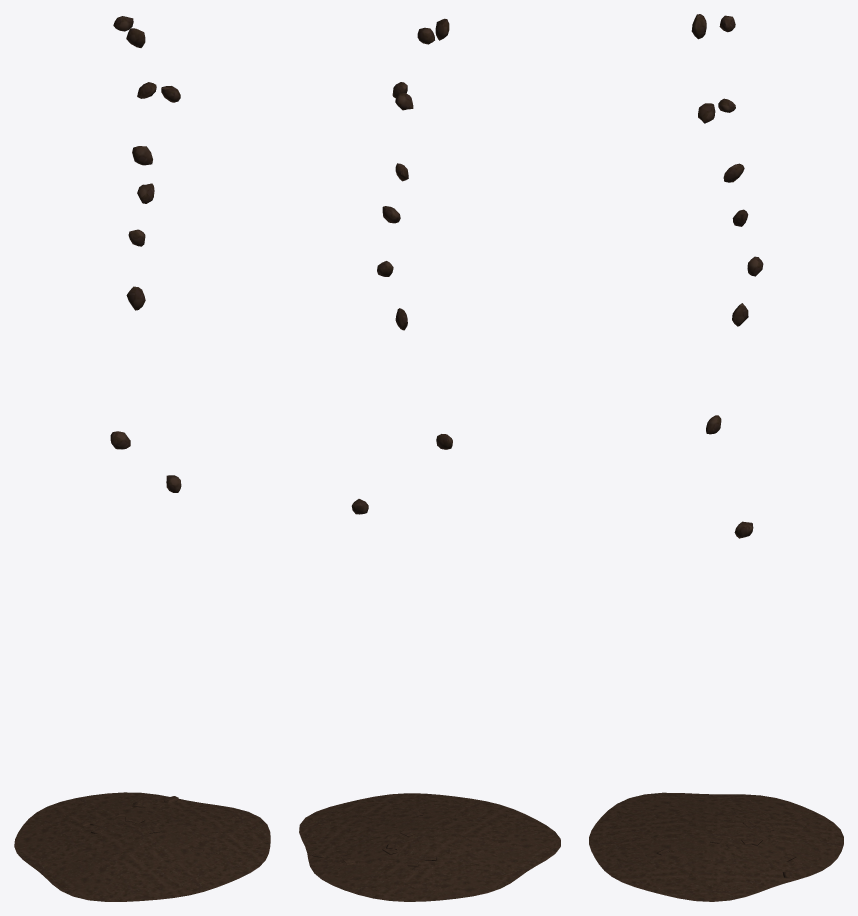
The model's file is TER-SOL-001_anim.glb.
3 views of the same model, side by side, from view 1: azimuth 30°, elevation 25°; view 2: azimuth 150°, elevation 25°; view 3: azimuth 270°, elevation 25° (orthographic).
Visible parts, largest first — view 1: TER-SOL-001_anim_monte; view 2: TER-SOL-001_anim_monte; view 3: TER-SOL-001_anim_monte.
Boxes of the visible parts, x1,y1,x2,y2 form: TER-SOL-001_anim_monte: (14, 792, 270, 901); TER-SOL-001_anim_monte: (299, 793, 560, 901); TER-SOL-001_anim_monte: (589, 792, 843, 901).
Bounding box in the file's own units: 0.4518 × 1.59 × 0.4458.
Materials: 1 (1 with a texture image).
